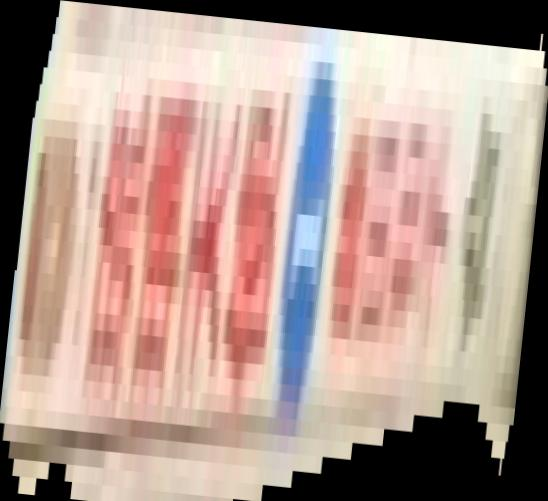flat: (1, 1, 548, 501)
